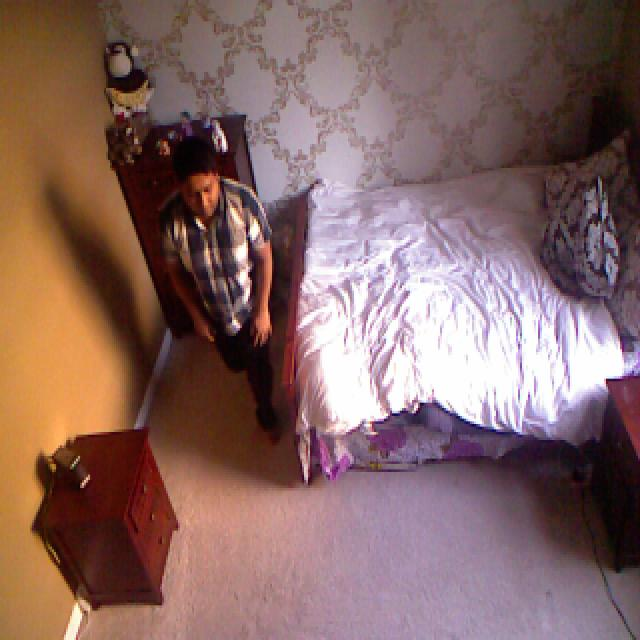standing: (154, 142, 285, 444)
